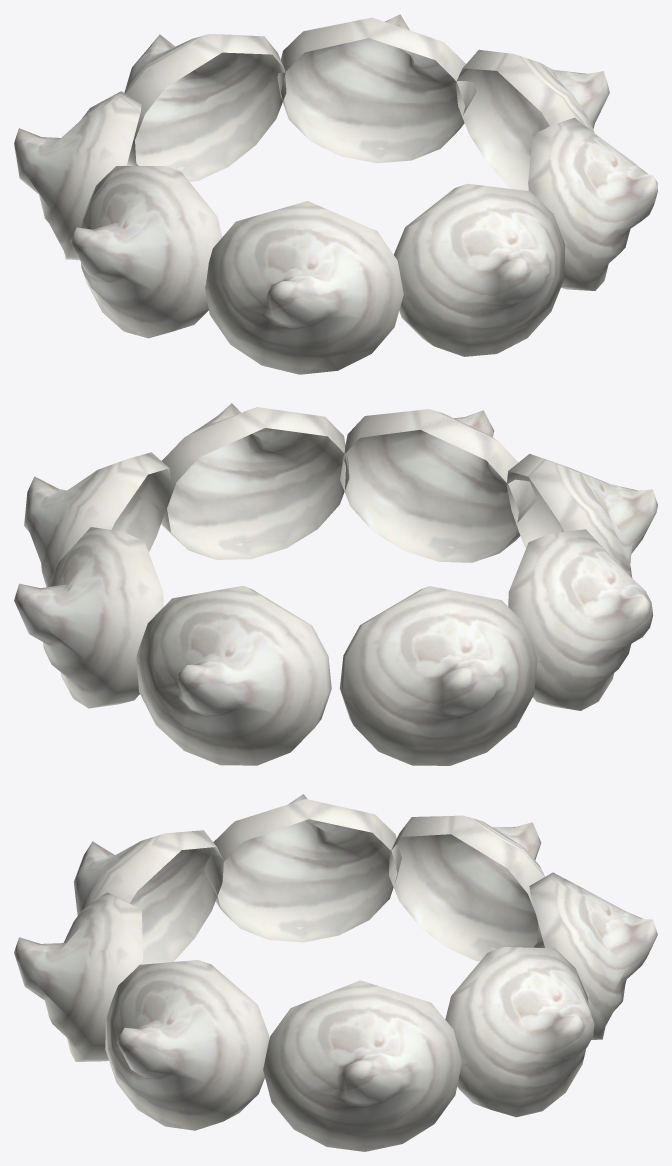
File: cream.obj
The picture shows the model from 3 angles, top to bottom: view 1: azimuth 30°, elevation 25°; view 2: azimuth 150°, elevation 25°; view 3: azimuth 270°, elevation 25°; orthographic projection. The views are drawn at different scales.
Parts seen in each view (by area): view 1: event_obj_kt3_chocolatesundae_root_000_ncl1_1.005; view 2: event_obj_kt3_chocolatesundae_root_000_ncl1_1.005; view 3: event_obj_kt3_chocolatesundae_root_000_ncl1_1.005.
Boxes of the visible parts, bbox=[...] form: event_obj_kt3_chocolatesundae_root_000_ncl1_1.005: bbox=[14, 14, 657, 374]; event_obj_kt3_chocolatesundae_root_000_ncl1_1.005: bbox=[14, 403, 657, 765]; event_obj_kt3_chocolatesundae_root_000_ncl1_1.005: bbox=[14, 794, 657, 1151].
Size of the model in its own units: 45.45 by 11.85 by 45.53.
